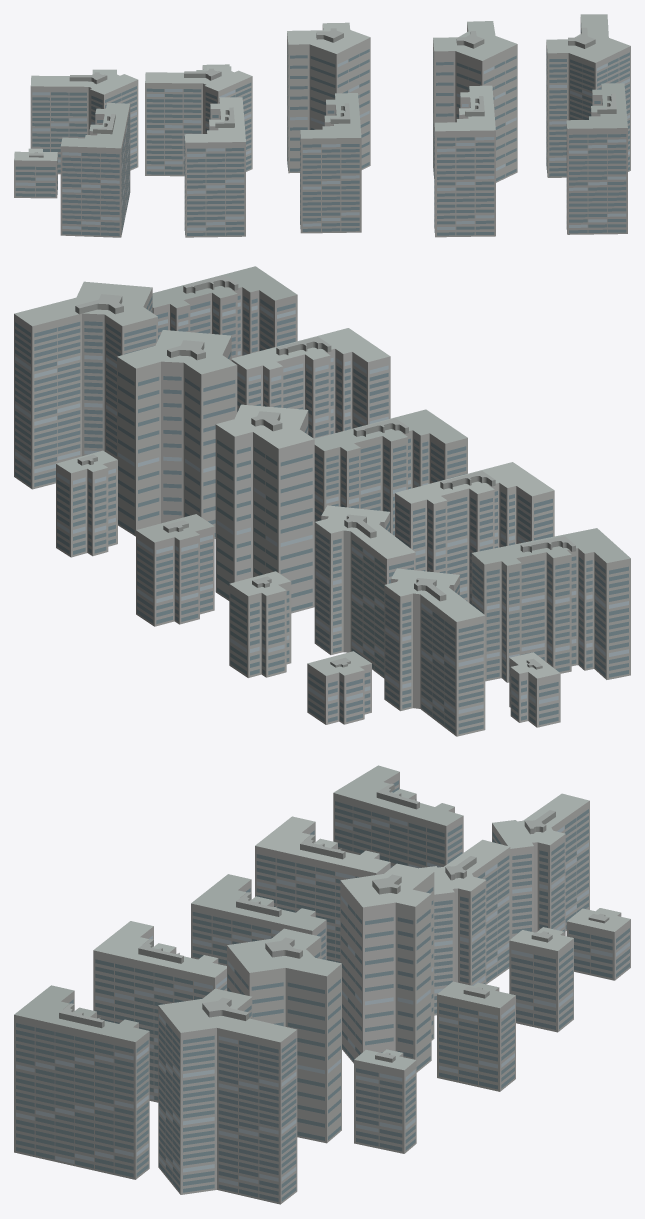
File: apt-a10024828.glb
The picture shows the model from 3 angles, top to bottom: view 1: azimuth 30°, elevation 25°; view 2: azimuth 150°, elevation 25°; view 3: azimuth 270°, elevation 25°; orthographic projection. The views are drawn at different scales.
Visible parts, largest first — view 1: apt-a10024828; view 2: apt-a10024828; view 3: apt-a10024828.
Part boxes in pixels (x1,y1,x2,y2): apt-a10024828: (14,14,630,237); apt-a10024828: (14,266,630,736); apt-a10024828: (14,765,630,1204).
Size of the model in its own units: 285 by 71 by 230.
